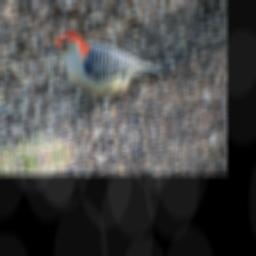Woodpecker: (37, 12, 166, 125)
